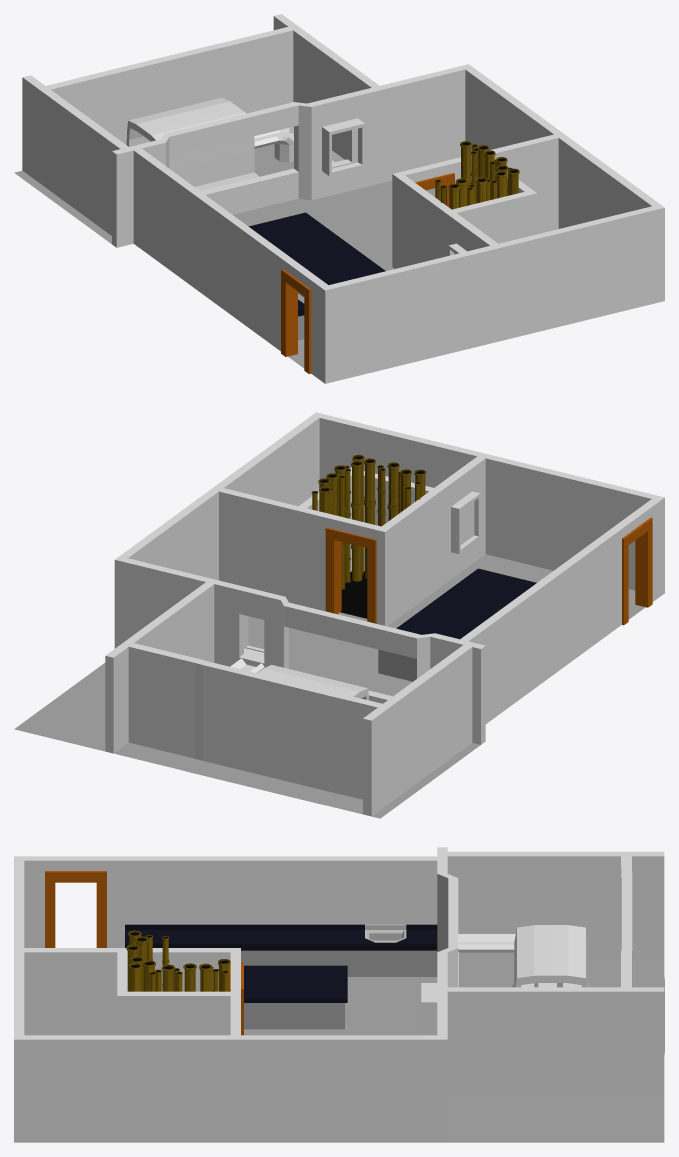
The model's file is factory.glb.
The picture shows the model from 3 angles, top to bottom: view 1: azimuth 30°, elevation 25°; view 2: azimuth 150°, elevation 25°; view 3: azimuth 270°, elevation 25°; orthographic projection. The views are drawn at different scales.
Visible parts, largest first — view 1: factory.003; view 2: factory.003; view 3: factory.003.
Boxes of the visible parts, x1=… form: factory.003: x1=14, y1=14, x2=664, y2=383; factory.003: x1=14, y1=412, x2=664, y2=818; factory.003: x1=14, y1=847, x2=664, y2=1142.
Size of the model in its own units: 42 by 13.65 by 60.05.
109 materials, 96 textured.
